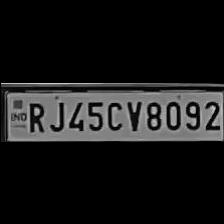0: (162, 96, 180, 130)
2: (201, 97, 221, 131)
4: (64, 97, 84, 131)
5: (83, 96, 103, 132)
8: (142, 96, 162, 132)
9: (182, 96, 200, 130)
C: (104, 97, 122, 131)
J: (46, 97, 66, 131)
R: (24, 98, 44, 132)
V: (124, 96, 142, 132)
